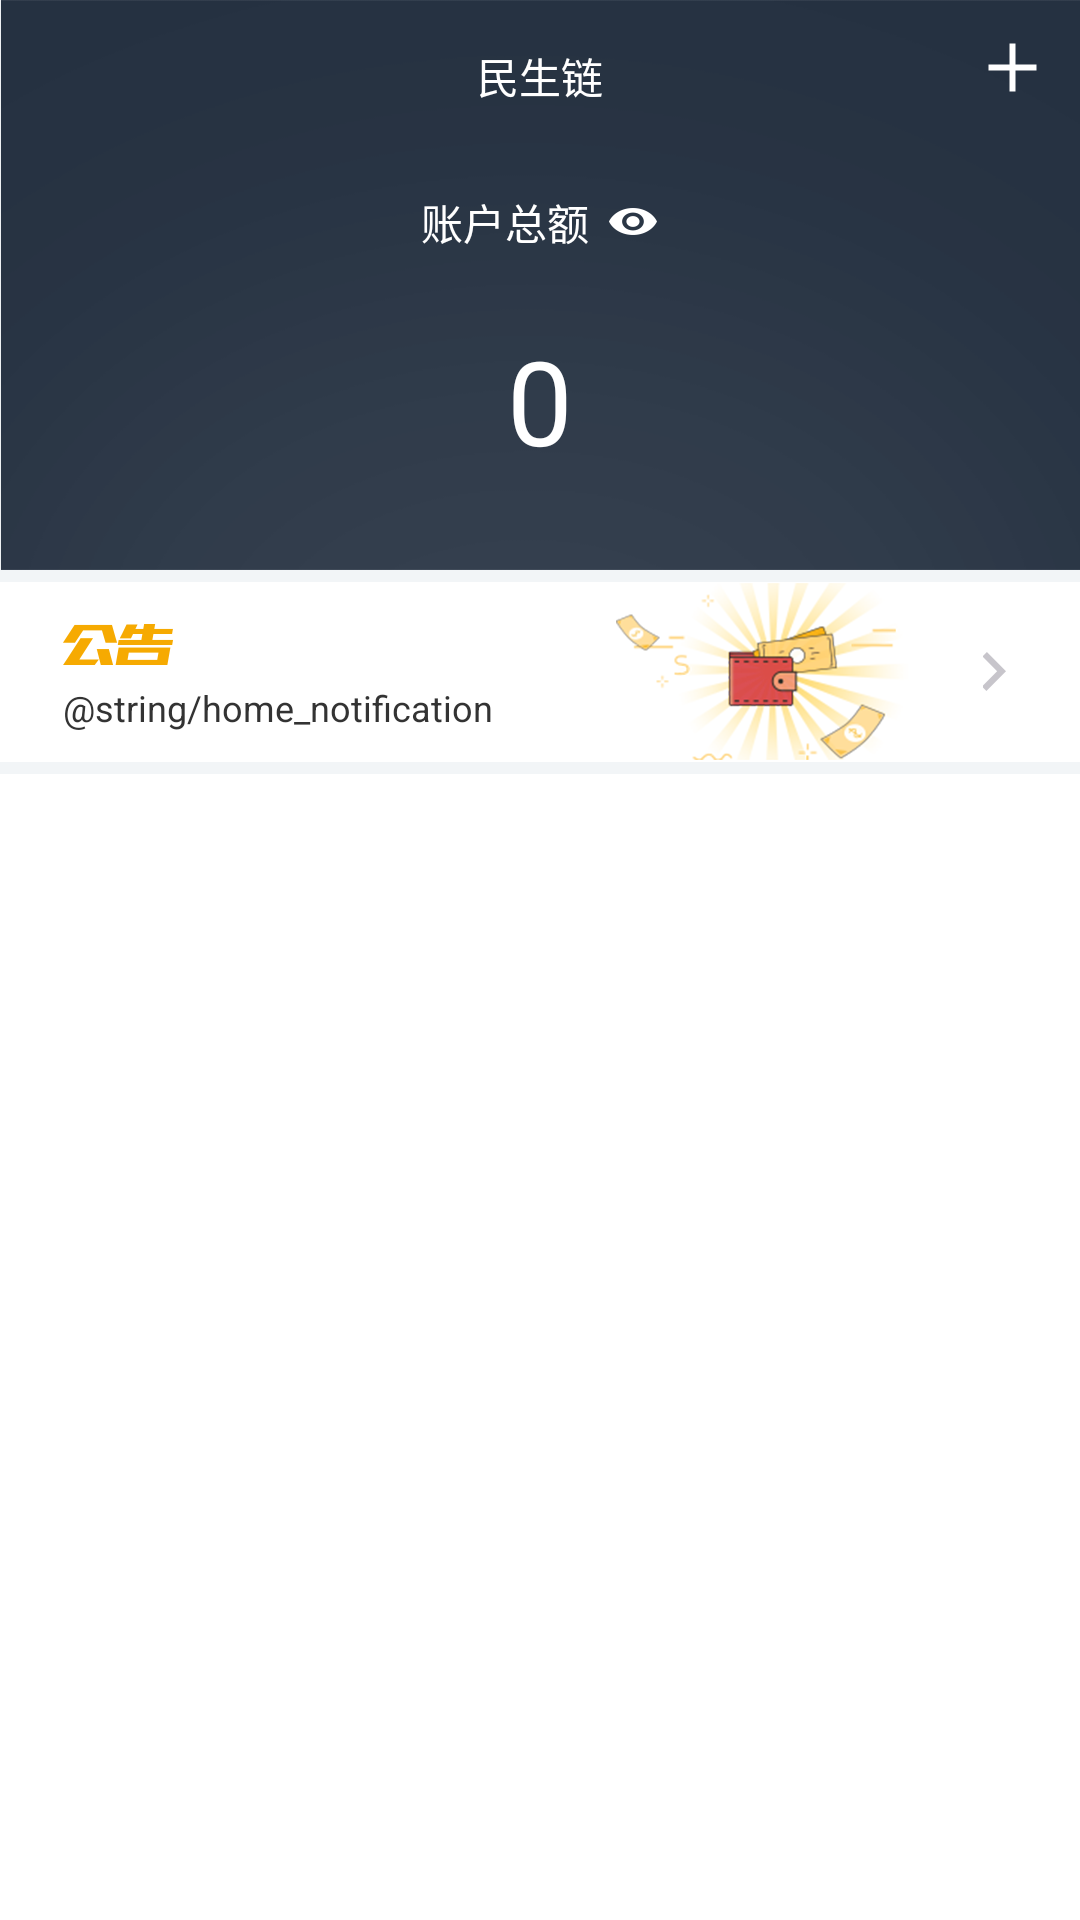

Icons on this 1080 x 1920 Android screen, each with the point to tap as [x,y]:
arrow: [994,671]
eye: [633,221]
home add: [1012,67]
